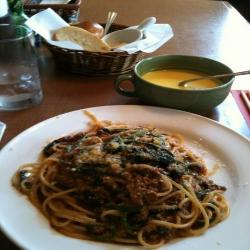bolonese_pasta: (25, 110, 216, 246)
bread: (46, 21, 123, 68)
